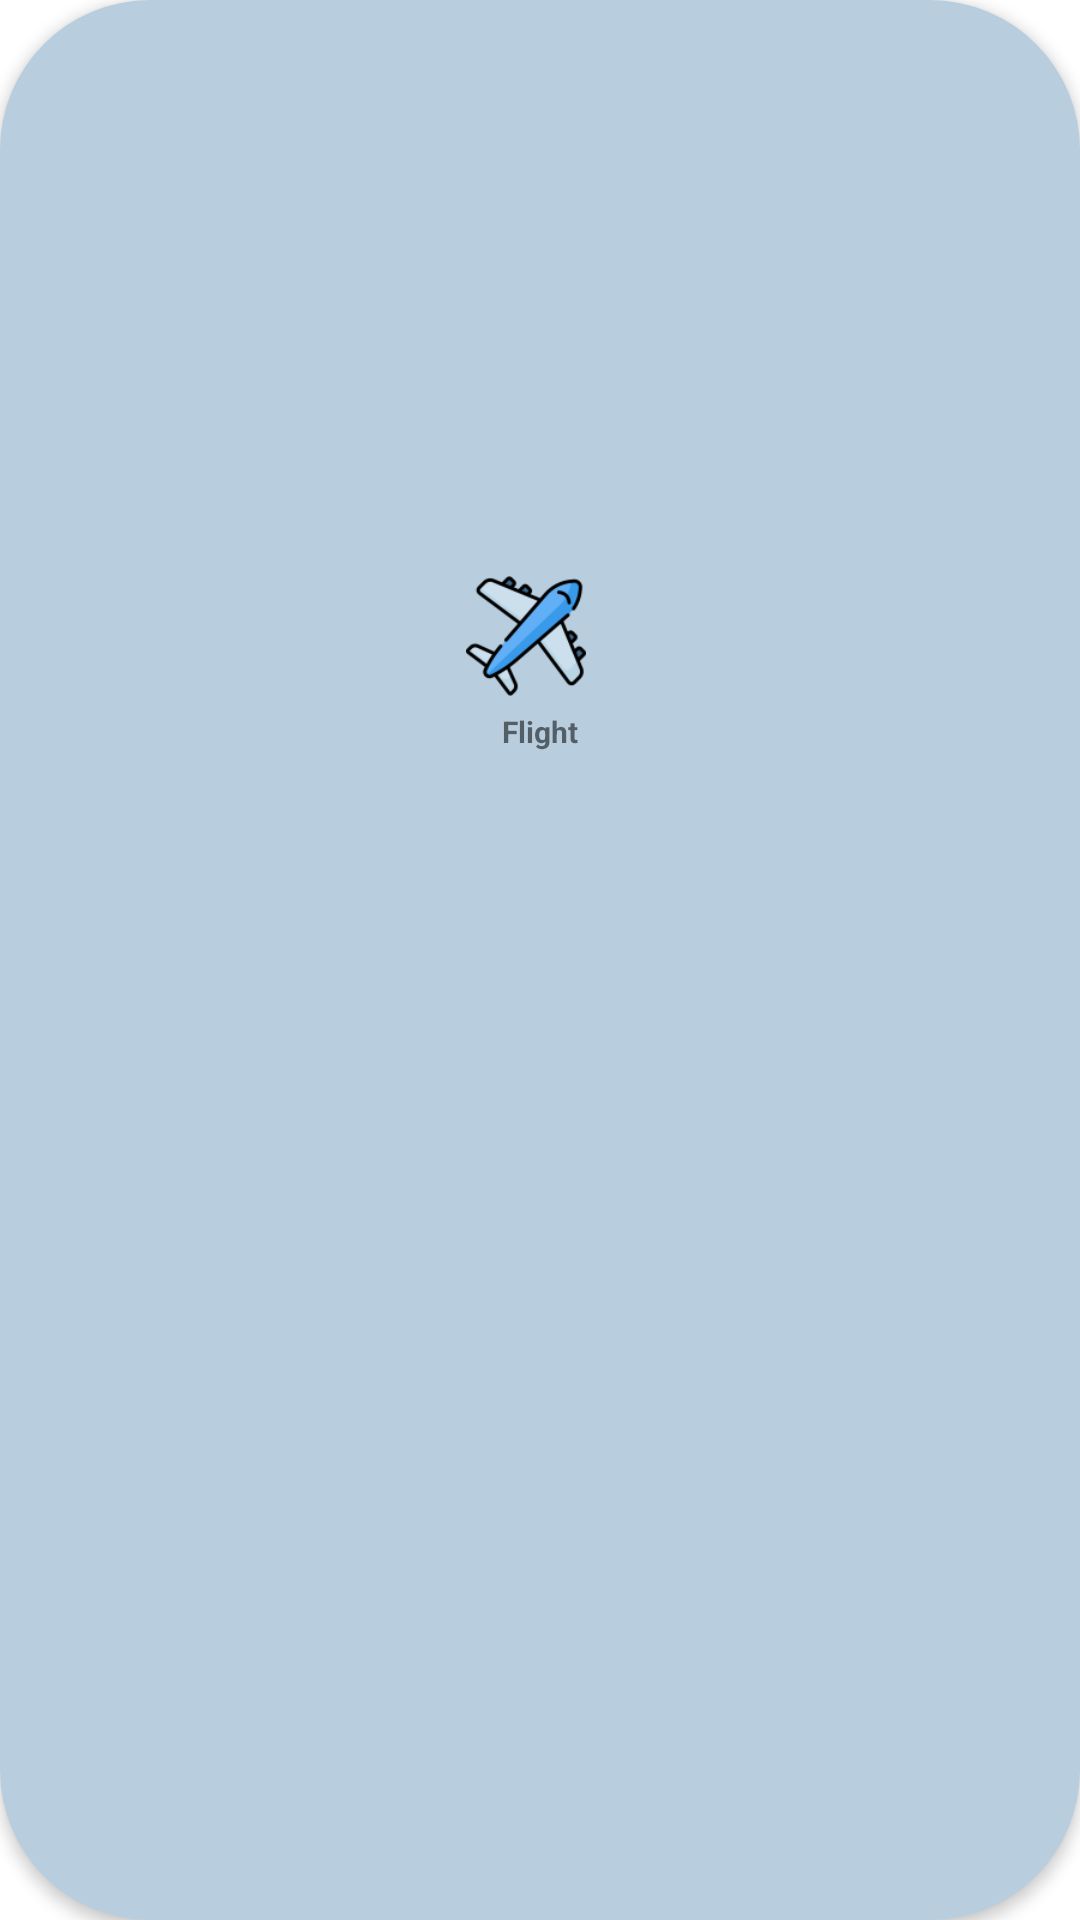

Where icons sit on this 1080*1920 app screen, as bbox(x1, y1, x2, y2):
plane: bbox(466, 576, 586, 696)
